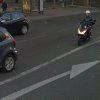Motorcycle: (71, 10, 96, 45)
